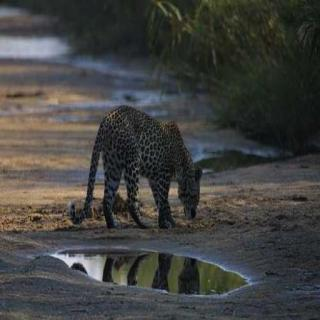Leopard: (58, 94, 228, 241)
